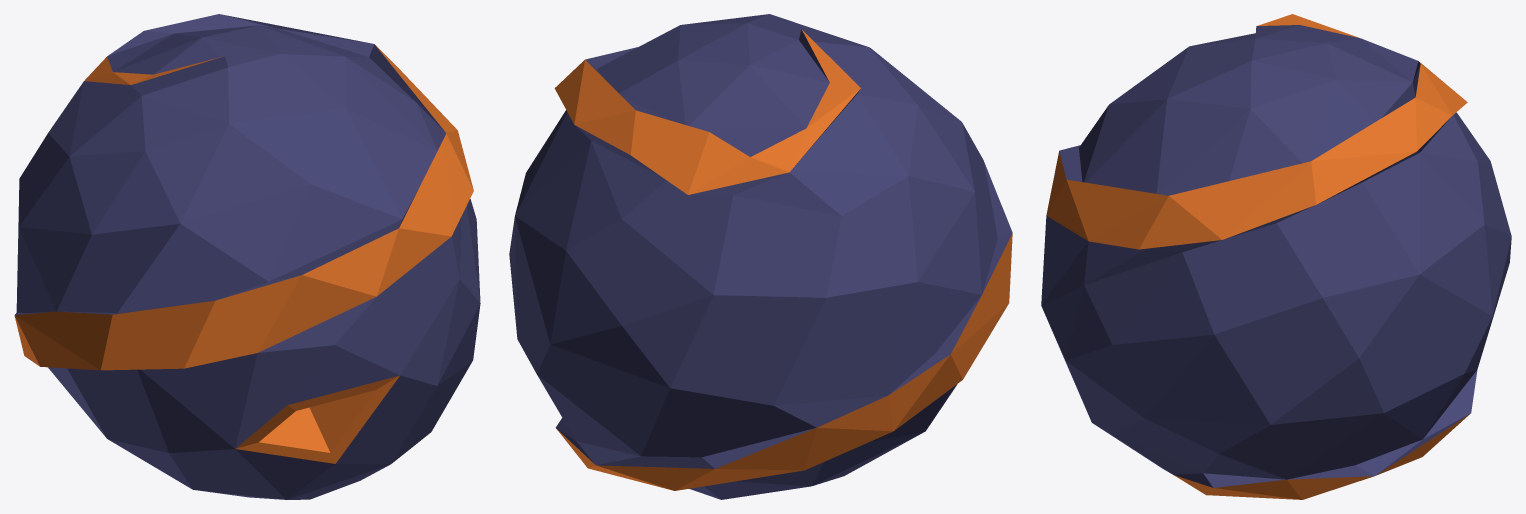
The model's file is Planet11.glb.
3 renders of one model, left to right at view 1: azimuth 30°, elevation 25°; view 2: azimuth 150°, elevation 25°; view 3: azimuth 270°, elevation 25°, orthographic. The views are drawn at different scales.
Visible parts, largest first — view 1: Planet11; view 2: Planet11; view 3: Planet11.
Part boxes in pixels (bbox=[...]): Planet11: bbox=[14, 14, 480, 499]; Planet11: bbox=[509, 14, 1012, 499]; Planet11: bbox=[1041, 14, 1511, 499].
Size of the model in its own units: 11.12 by 11.24 by 11.4.
Materials: 1 (1 with a texture image).
